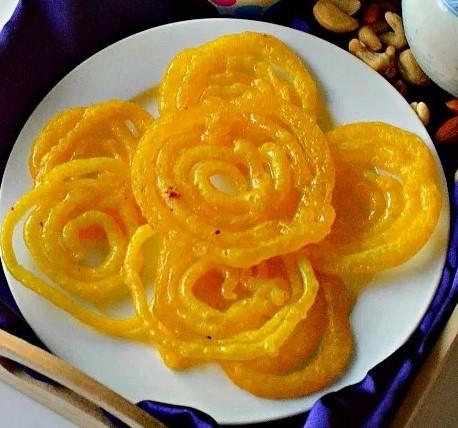Jalebi: (3, 29, 443, 398)
